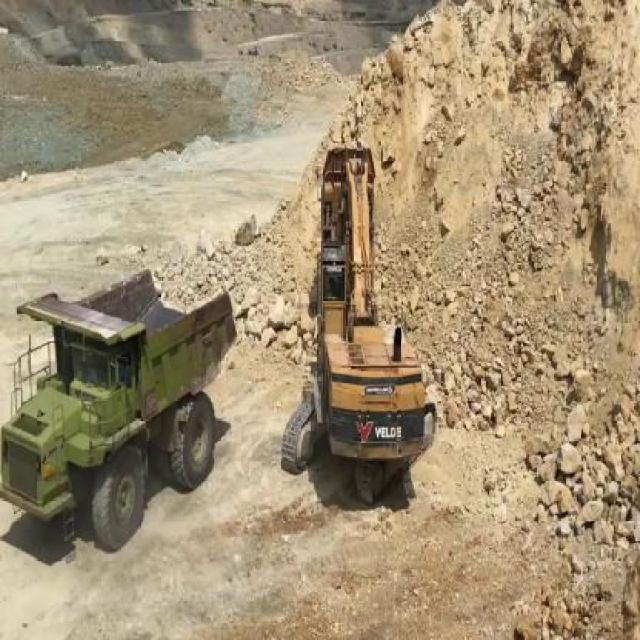dump_truck: (3, 263, 239, 557)
excavator: (279, 136, 436, 513)
